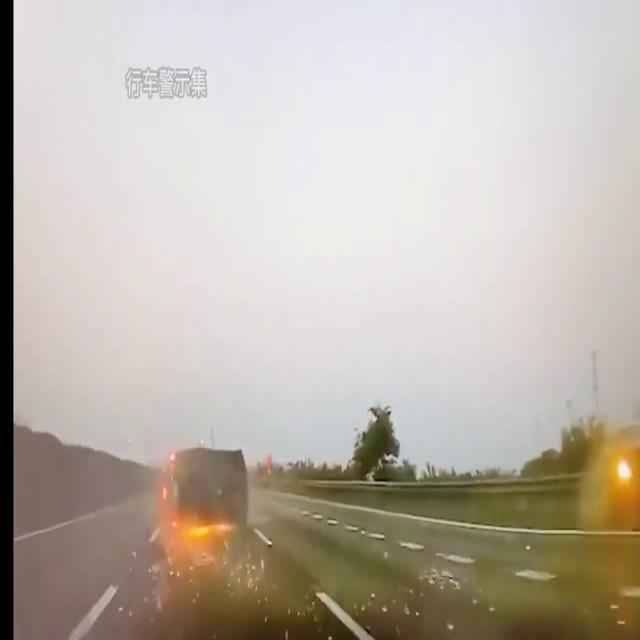accident: (160, 447, 252, 613)
